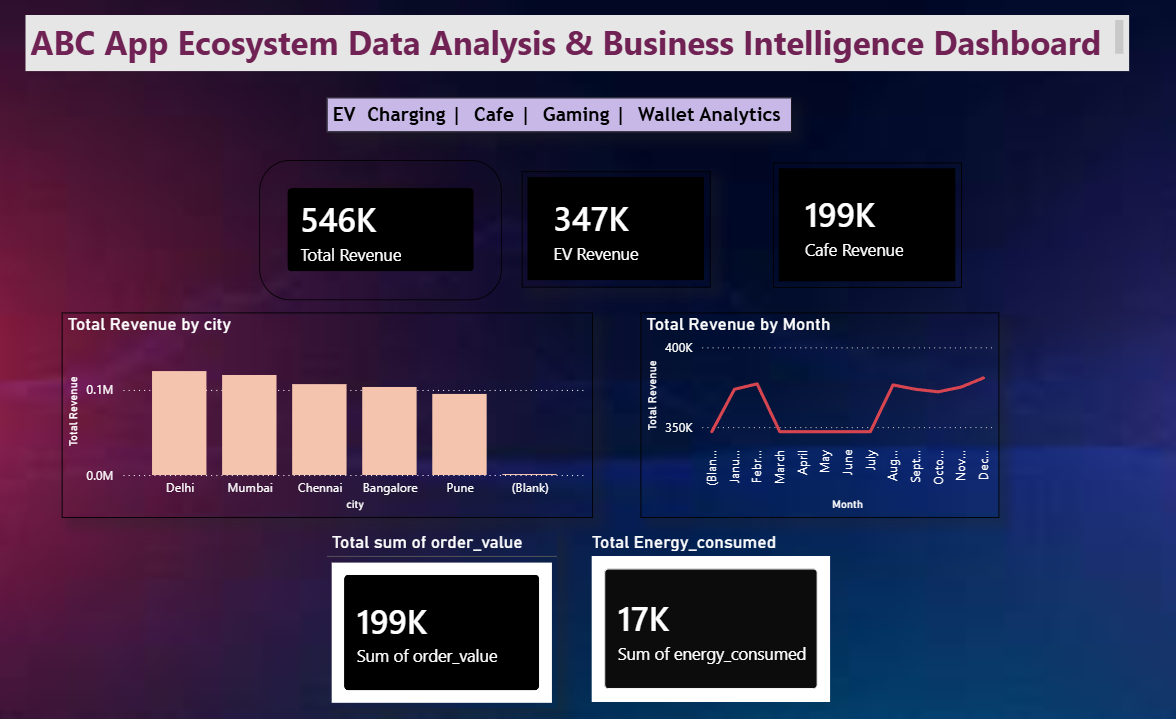

Layout of this report page (visuals, bound fields, positions):
{"tool":"powerbi","page":{"name":"Revenue Dashboard","canvas":[1280,720],"ordinal":0},"visuals":[{"type":"cardVisual","title":"Total sum of order_value","fields":{"Data":["Sum(Cafe.order_value)"]},"box":[328.5,529.8,223.1,170.9],"z":0},{"type":"cardVisual","title":"Total Energy_consumed","fields":{"Data":["Sum(EVCharging.energy_consumed)"]},"box":[580.7,529.8,241.3,170.9],"z":1000},{"type":"textbox","box":[36.2,29,1070.1,54.3],"z":2000},{"type":"textbox","box":[328.2,108.6,451.2,33.8],"z":3000},{"type":"clusteredColumnChart","fields":{"Category":["Users.city"],"Y":["Cafe.Total Revenue"]},"box":[71.5,317.6,515.3,198.8],"z":4000},{"type":"lineChart","fields":{"Y":["Cafe.Total Revenue"],"Category":["Cafe.order_time.Variation.Date Hierarchy.Month"]},"box":[632.8,317.6,347.9,198.8],"z":5000},{"type":"cardVisual","fields":{"Data":["Cafe.Cafe Revenue"]},"box":[761.4,172.2,183.1,121.2],"z":6000},{"type":"cardVisual","fields":{"Data":["EVCharging.EV Revenue"]},"box":[517.7,180.6,183.1,112.7],"z":7000},{"type":"cardVisual","fields":{"Data":["Cafe.Total Revenue"]},"box":[263.1,169.7,235.2,135.8],"z":9000}]}

Visuals, with their boxes on the page's 1280x720 design canvas (x1, y1, x2, y2). These are canvas units, not pixel positions in the 1176x719 screenshot, which may show the page scaled, cropped or inside an application window:
"Total sum of order_value" cardVisual: bbox=(328, 530, 552, 701)
"Total Energy_consumed" cardVisual: bbox=(581, 530, 822, 701)
textbox: bbox=(36, 29, 1106, 83)
textbox: bbox=(328, 109, 779, 142)
clusteredColumnChart - Users.city x Cafe.Total Revenue: bbox=(72, 318, 587, 516)
lineChart - Cafe.Total Revenue x Cafe.order_time.Variation.Date Hierarchy.Month: bbox=(633, 318, 981, 516)
cardVisual - Cafe.Cafe Revenue: bbox=(761, 172, 944, 293)
cardVisual - EVCharging.EV Revenue: bbox=(518, 181, 701, 293)
cardVisual - Cafe.Total Revenue: bbox=(263, 170, 498, 306)
